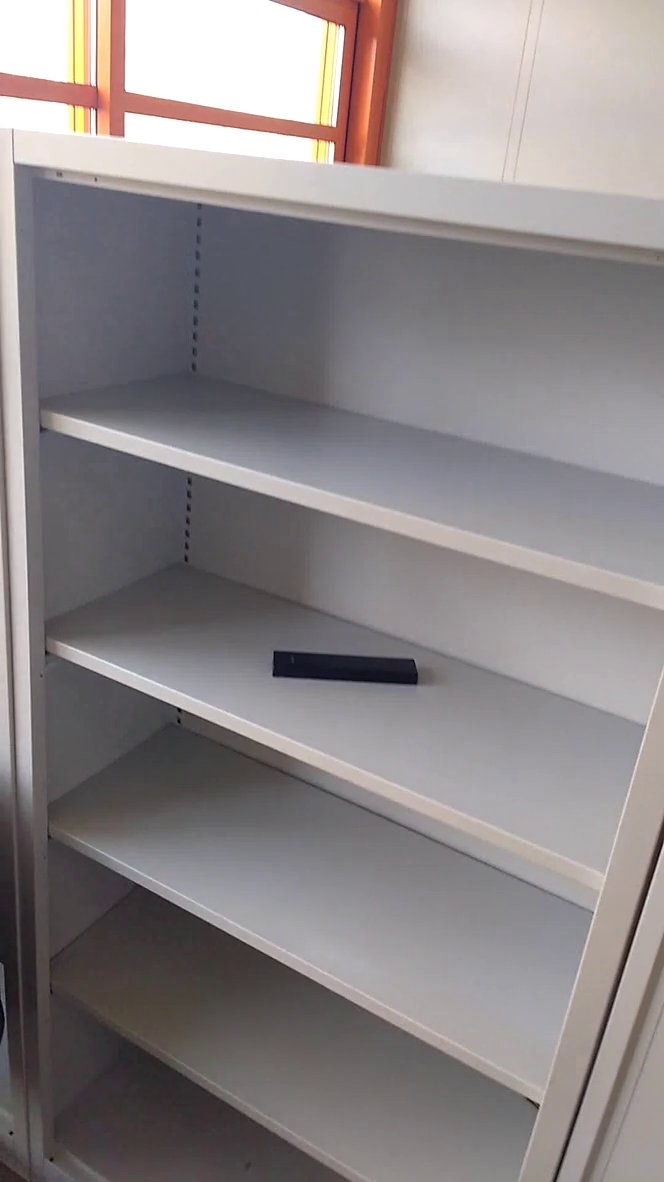remote: (257, 641, 441, 706)
